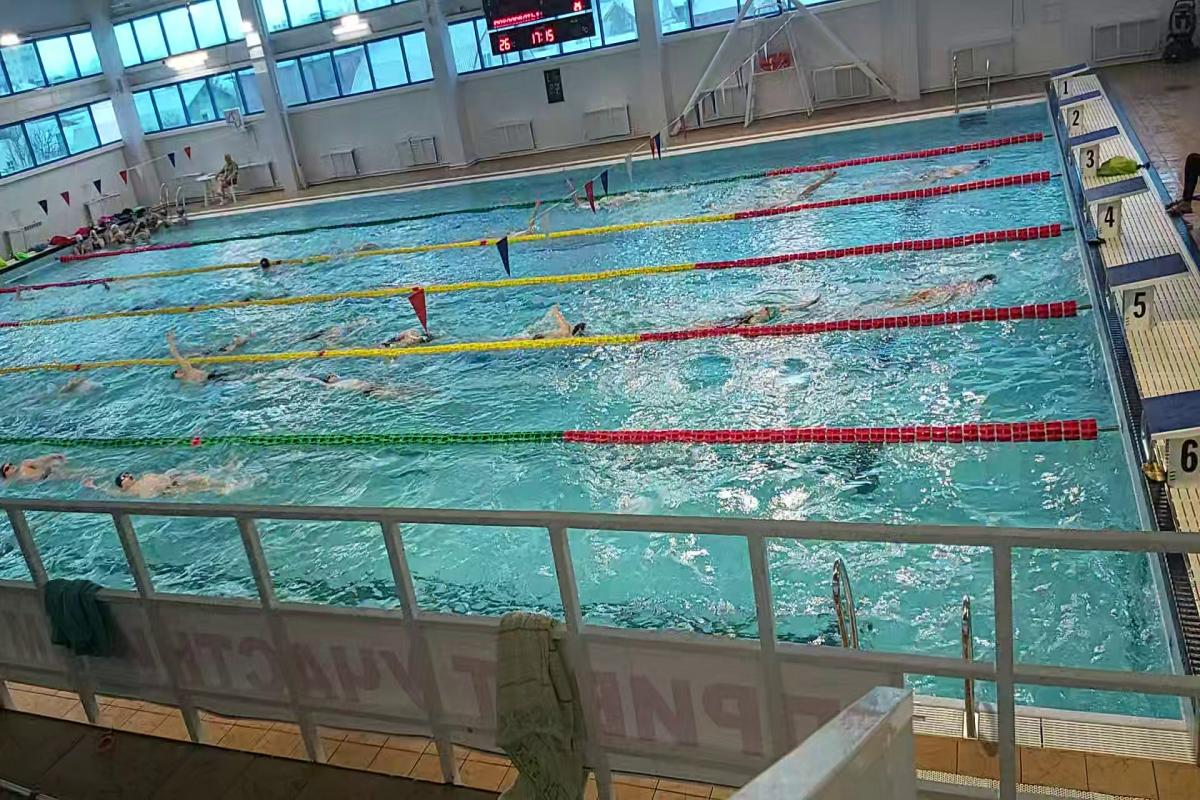swimmer: (290, 362, 434, 404), (99, 465, 226, 500), (157, 330, 234, 387), (902, 267, 1010, 306), (703, 296, 823, 320), (526, 298, 596, 336), (1, 456, 80, 484), (780, 170, 846, 202), (568, 187, 656, 208), (53, 370, 109, 400), (385, 324, 444, 344), (927, 164, 989, 178), (510, 212, 548, 232), (252, 257, 287, 271)
